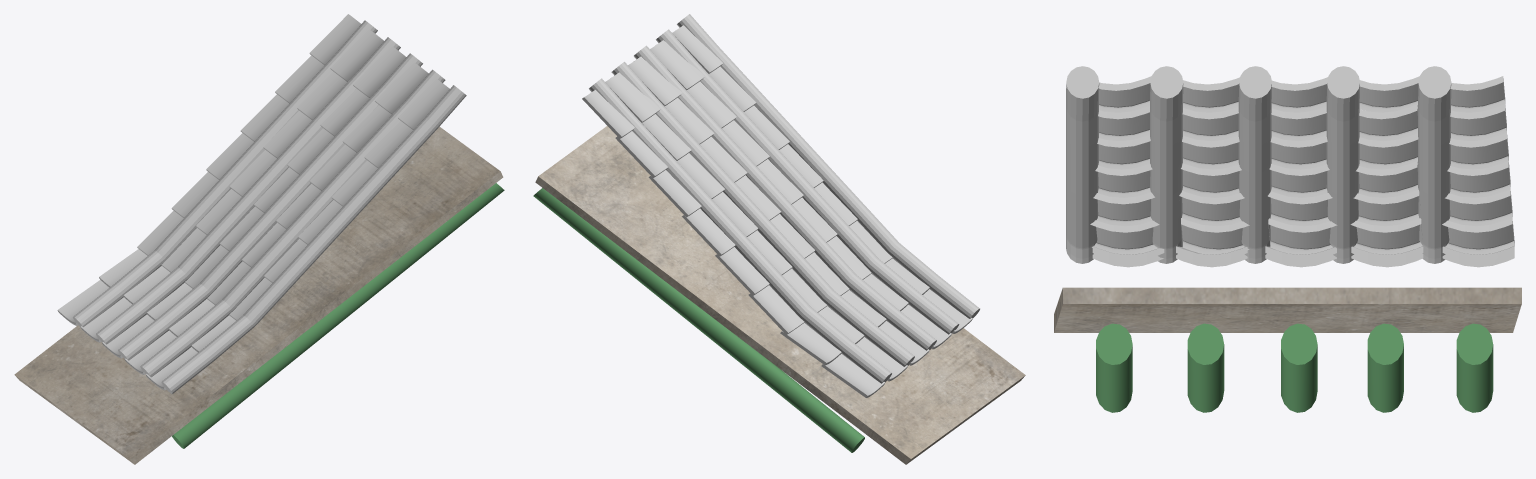
The model's file is SM_Roof_7.fbx.
The picture shows the model from 3 angles, left to right: view 1: azimuth 30°, elevation 25°; view 2: azimuth 150°, elevation 25°; view 3: azimuth 270°, elevation 25°; orthographic projection. The views are drawn at different scales.
Parts seen in each view (by area): view 1: SM_Roof_7; view 2: SM_Roof_7; view 3: SM_Roof_7.
Boxes of the visible parts, x1=… form: SM_Roof_7: x1=14, y1=14, x2=504, y2=464; SM_Roof_7: x1=533, y1=14, x2=1025, y2=464; SM_Roof_7: x1=1054, y1=66, x2=1521, y2=412.
Size of the model in its own units: 560 by 294 by 418.
